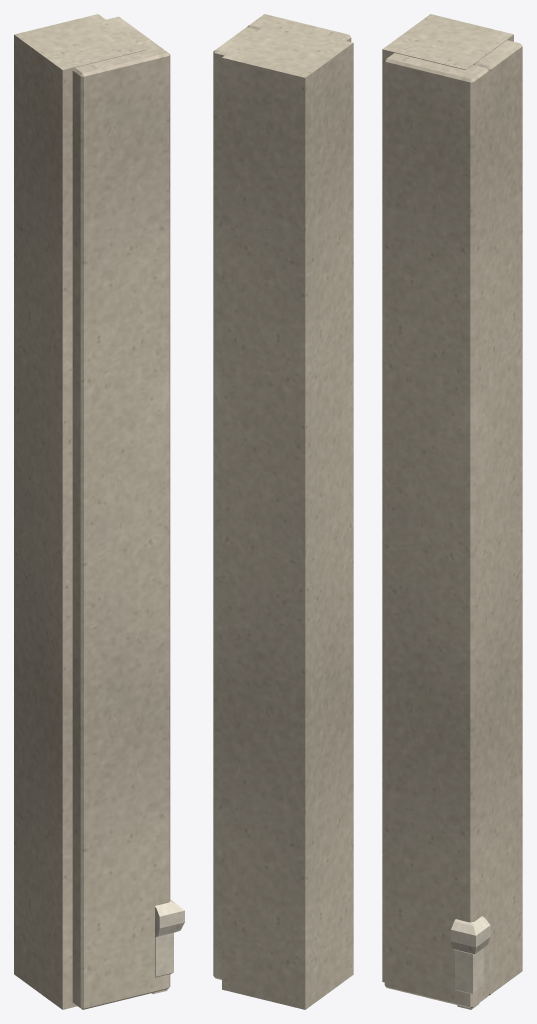
Rendered from corner_pv_u1.glb.
3 renders of one model, left to right at view 1: azimuth 30°, elevation 25°; view 2: azimuth 150°, elevation 25°; view 3: azimuth 330°, elevation 25°, orthographic.
Parts seen in each view (by area): view 1: corner_pv_u1_ashlar, corner_pv_u1_trim; view 2: corner_pv_u1_ashlar; view 3: corner_pv_u1_ashlar, corner_pv_u1_trim.
Part boxes in pixels (x1,y1,x2,y2): corner_pv_u1_ashlar: (14, 14, 170, 1009); corner_pv_u1_trim: (152, 900, 184, 994); corner_pv_u1_ashlar: (213, 14, 353, 1009); corner_pv_u1_ashlar: (382, 14, 522, 1008); corner_pv_u1_trim: (451, 916, 490, 1009).
Size of the model in its own units: 0.386 by 3.2 by 0.386.
2 materials, 2 textured.
